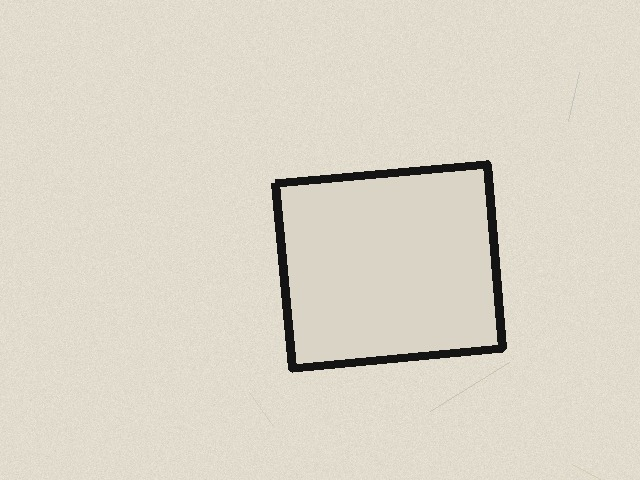parking_area: (275, 164, 502, 368)
